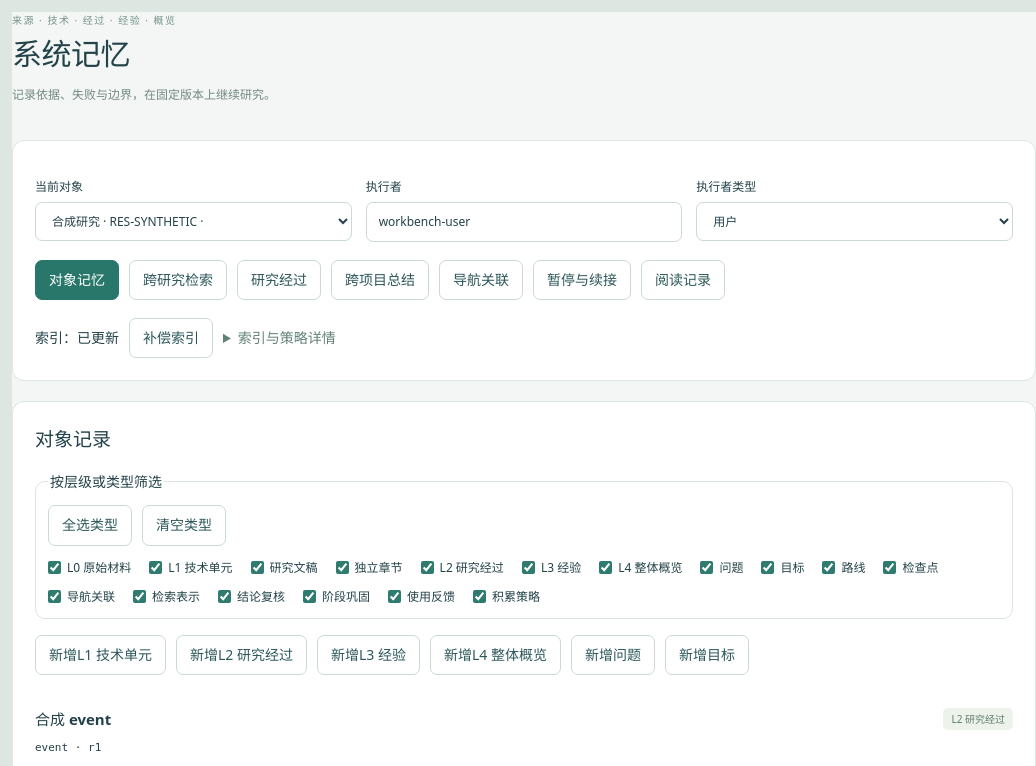
Test: 统一记忆层级入口 › 每层只有一个筛选和新建入口，其他对象未迁移的内容仍可找到
Expected: the number of checkboxes labelled "L2 研究经过" is 1, [421,561,434,574]
Expected: the number of checkboxes labelled "L4 整体概览" is 1, [599,561,612,574]
Click the button "清空类型": (184, 525) [142,505,226,546]
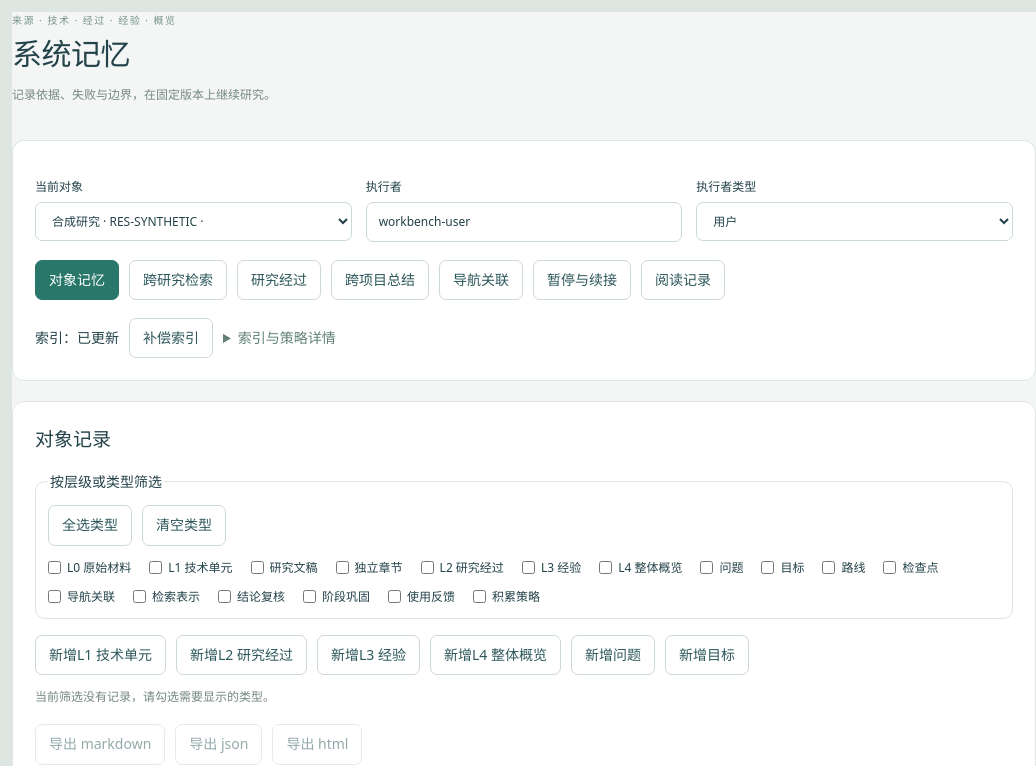
Click the checkbox labelled "L4 整体概览": (606, 567) [599,561,612,574]
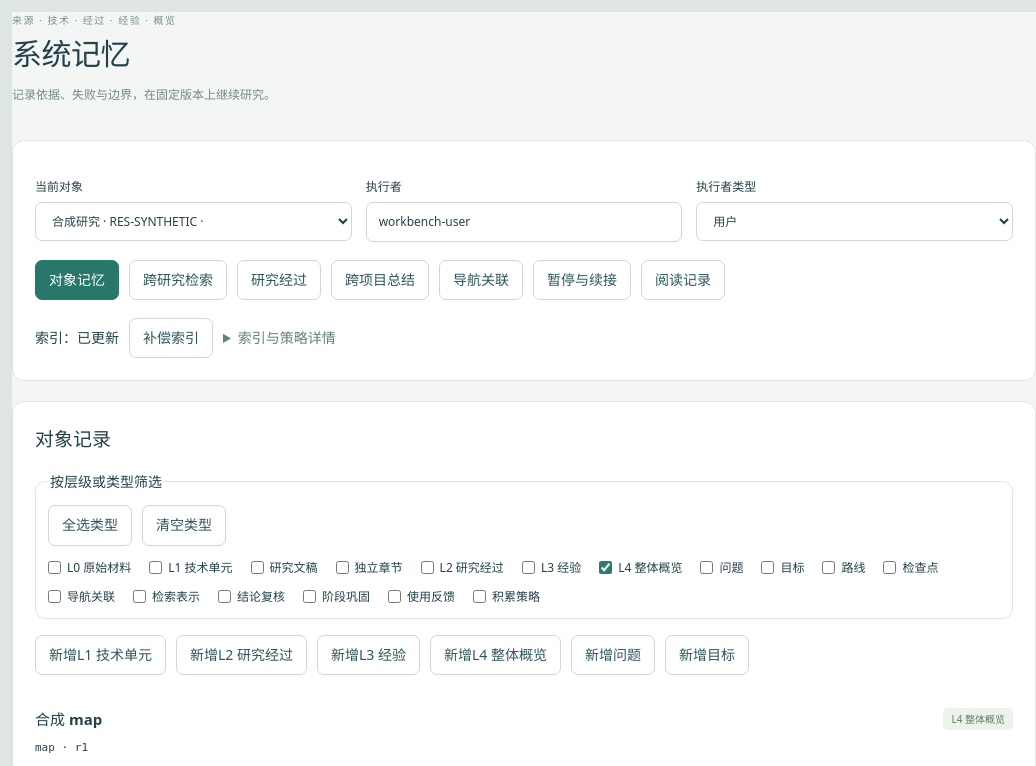
Expected: the heading "合成 event" is not shown
Result: the heading "合成 map" is shown at [35,707,102,731]
